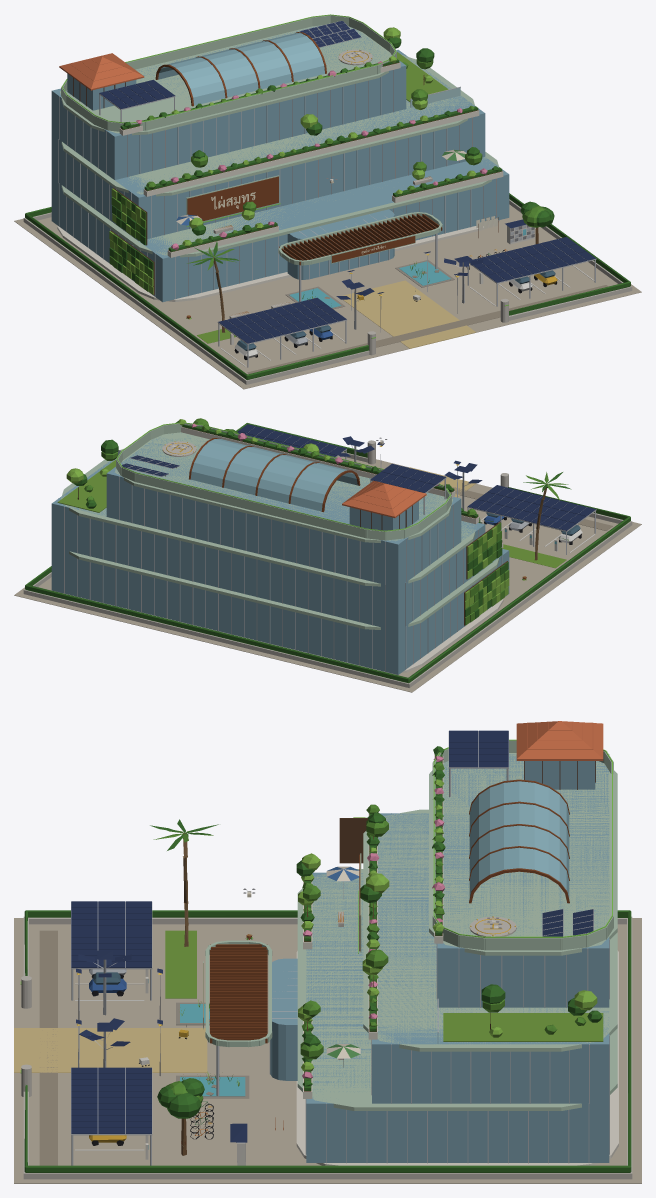
The model's file is store.glb.
3 views of the same model, one above another, from view 1: azimuth 30°, elevation 25°; view 2: azimuth 150°, elevation 25°; view 3: azimuth 270°, elevation 25° (orthographic). The views are drawn at different scales.
Parts seen in each view (by area): view 1: body, windows; view 2: body, windows; view 3: body, windows.
Boxes of the visible parts, left/top/right/bottom form: body: left=14, top=15, right=641, bottom=389; windows: left=61, top=14, right=555, bottom=350; body: left=14, top=418, right=641, bottom=692; windows: left=116, top=422, right=580, bottom=544; body: left=14, top=721, right=641, bottom=1183; windows: left=20, top=739, right=612, bottom=1149.
Bounding box in the file's own units: 47.9 × 20.11 × 47.9.
